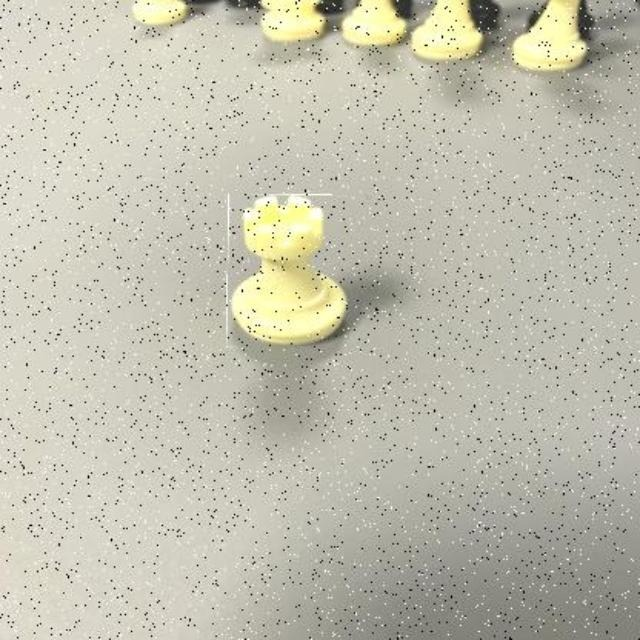white-rook: (226, 195, 349, 349)
